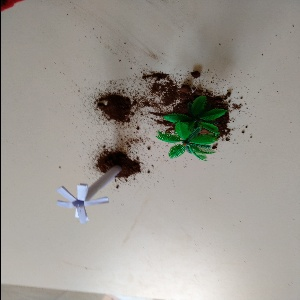plant: (157, 87, 225, 162)
weed: (55, 157, 126, 220)
